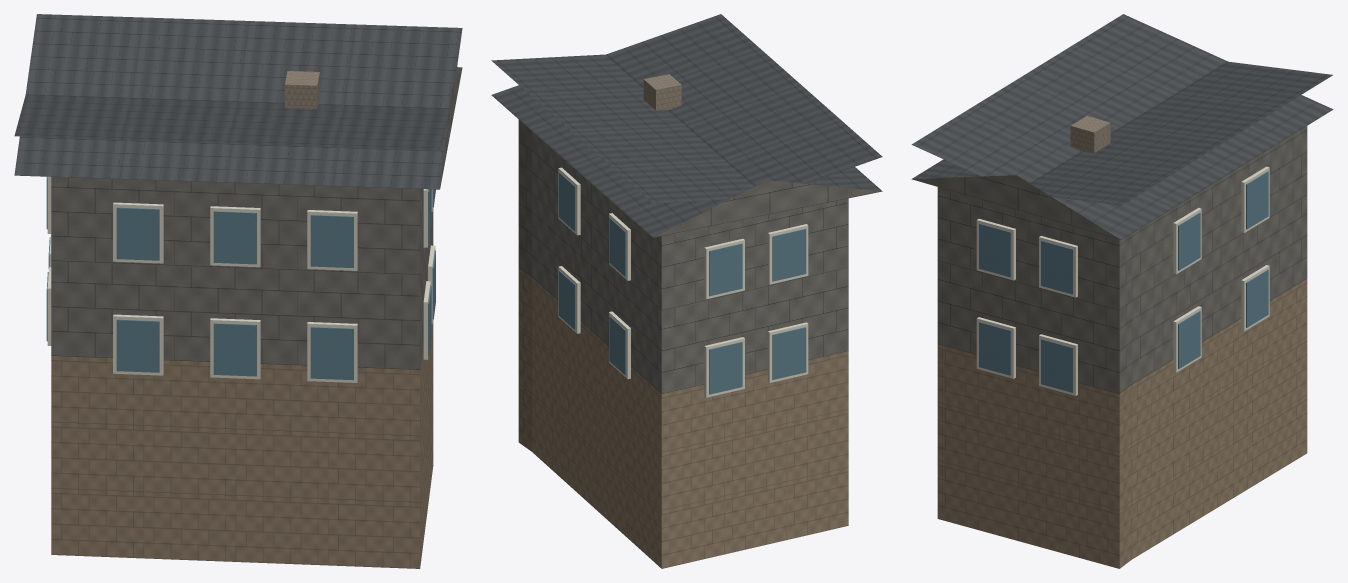
The model's file is core_0052.gltf.
The picture shows the model from 3 angles, left to right: view 1: azimuth 30°, elevation 25°; view 2: azimuth 150°, elevation 25°; view 3: azimuth 270°, elevation 25°; orthographic projection. The views are drawn at different scales.
Visible parts, largest first — view 1: core_0052; view 2: core_0052; view 3: core_0052.
Boxes of the visible parts, x1,y1,x2,y2 form: core_0052: (14,14,462,568); core_0052: (491,14,882,568); core_0052: (911,14,1333,568).
Bounding box in the file's own units: 11.9 × 11.05 × 11.09.
Materials: 6 (6 with a texture image).
